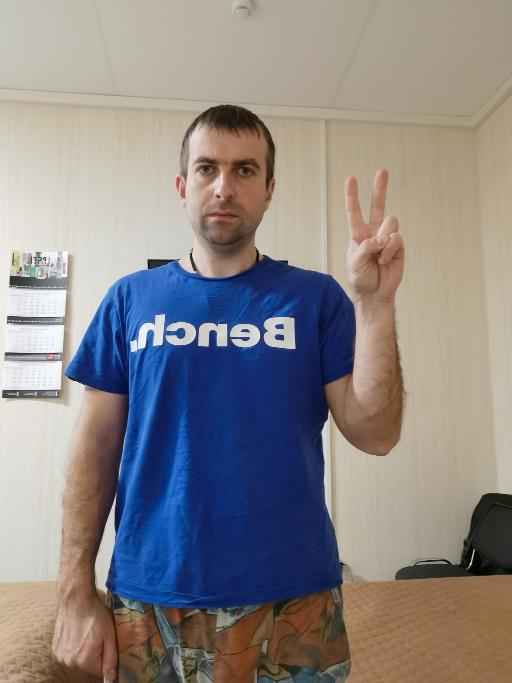no_gesture: (48, 588, 118, 680)
peace: (341, 164, 407, 301)
